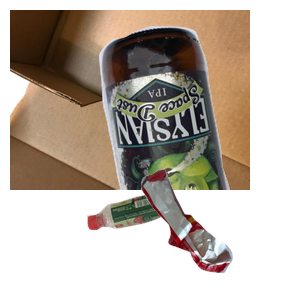cardboard: (10, 10, 250, 190)
glass: (97, 24, 300, 204)
plastic: (84, 191, 242, 300)
trash: (139, 167, 300, 300)
